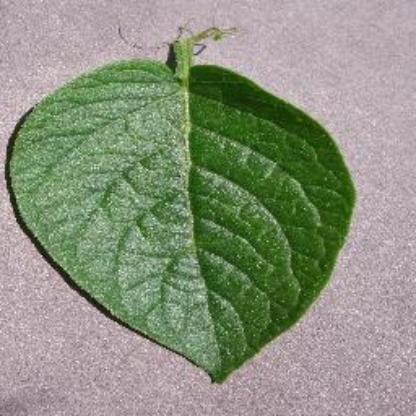Healthy-plant: (9, 31, 361, 383)
